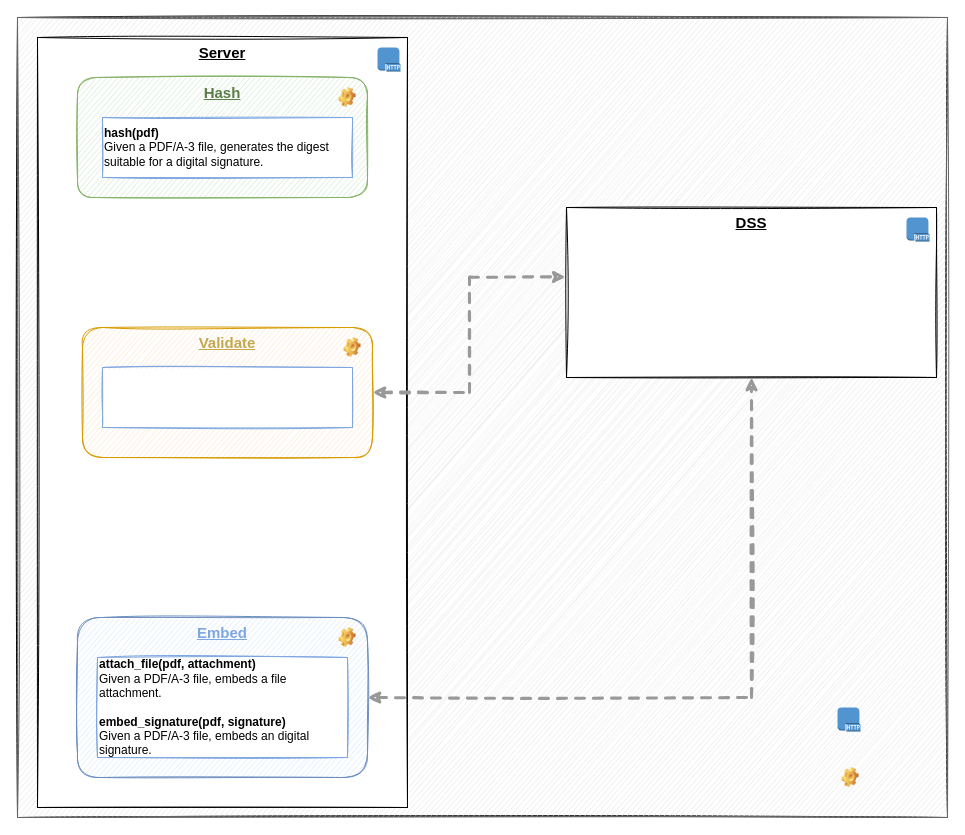
Image size: 965x835. Some labels were removed from this diagram. The centre of each missing label's shape, as x and y in pixels:
"HTTP Server Application" goes at [848,719].
"Software Component" goes at [850,777].
"validate(pdf) Given a digitally signed PDF/A-3 file, validates the signature." goes at [227,397].
